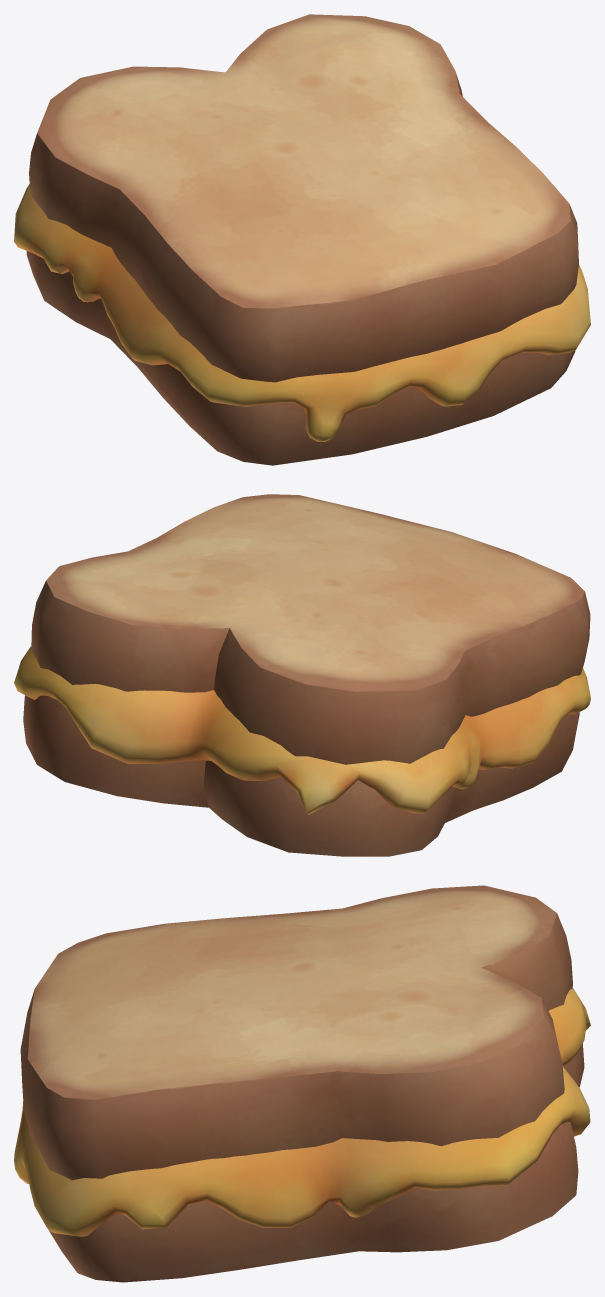
The model's file is Sandwitch_1.fbx.
3 views of the same model, one above another, from view 1: azimuth 30°, elevation 25°; view 2: azimuth 150°, elevation 25°; view 3: azimuth 270°, elevation 25° (orthographic). The views are drawn at different scales.
Visible parts, largest first — view 1: Sandwitch; view 2: Sandwitch; view 3: Sandwitch.
Part boxes in pixels (x1,y1,x2,y2): Sandwitch: [14, 14, 590, 465]; Sandwitch: [14, 494, 590, 856]; Sandwitch: [14, 885, 590, 1282].
Size of the model in its own units: 0.6565 by 0.352 by 0.715.
1 material, 1 textured.
